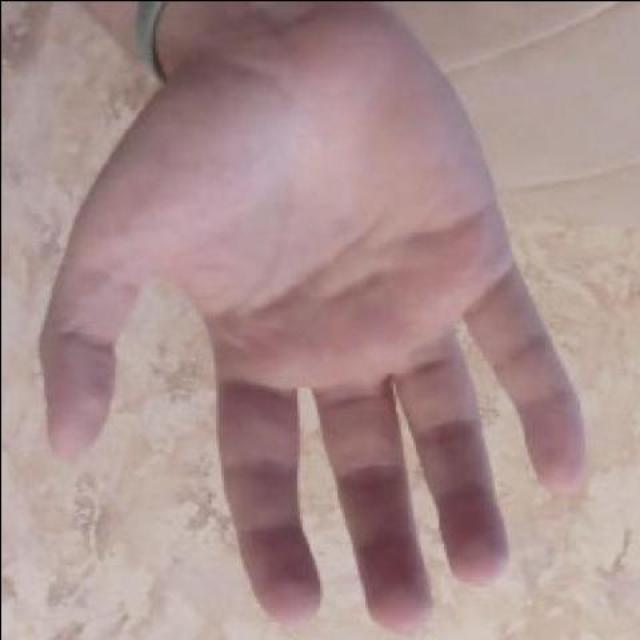Open Hand: (39, 0, 589, 633)
